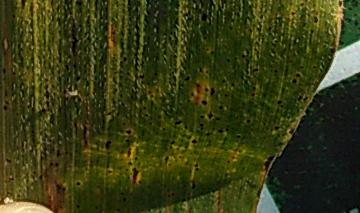tarspot: (79, 122, 91, 148), (48, 110, 57, 129), (119, 53, 131, 66), (271, 120, 282, 134), (162, 151, 171, 167), (58, 183, 70, 195), (201, 129, 214, 140), (181, 72, 192, 85), (200, 10, 210, 24), (312, 10, 320, 27), (188, 176, 197, 191), (208, 83, 217, 98), (51, 147, 66, 156), (197, 110, 207, 123), (223, 124, 232, 138), (51, 160, 62, 171), (244, 115, 254, 127), (217, 76, 229, 86), (250, 64, 259, 77), (170, 50, 179, 63), (104, 137, 112, 151), (208, 109, 216, 123), (36, 108, 50, 116), (3, 155, 13, 166), (273, 95, 284, 105), (72, 73, 83, 83), (234, 131, 243, 143), (192, 160, 201, 172), (217, 124, 224, 139), (174, 116, 182, 129), (328, 43, 336, 56), (289, 76, 299, 86), (74, 177, 83, 188), (72, 201, 83, 210), (43, 89, 52, 100), (37, 172, 45, 184), (217, 102, 225, 114), (272, 64, 280, 76), (1, 104, 11, 113), (189, 137, 199, 146), (136, 71, 145, 81), (222, 56, 232, 65), (195, 64, 204, 74), (154, 112, 163, 122), (297, 1, 307, 10), (106, 166, 114, 177), (125, 157, 133, 168), (239, 48, 247, 59), (288, 125, 296, 136), (1, 63, 7, 77), (124, 128, 133, 137), (200, 98, 209, 107), (124, 69, 133, 78), (201, 34, 210, 43), (288, 9, 297, 18), (137, 177, 144, 188), (208, 47, 216, 56), (119, 196, 129, 203), (121, 118, 127, 129), (169, 137, 176, 146), (63, 63, 70, 72), (250, 84, 258, 91), (337, 1, 345, 8), (3, 88, 9, 97)
